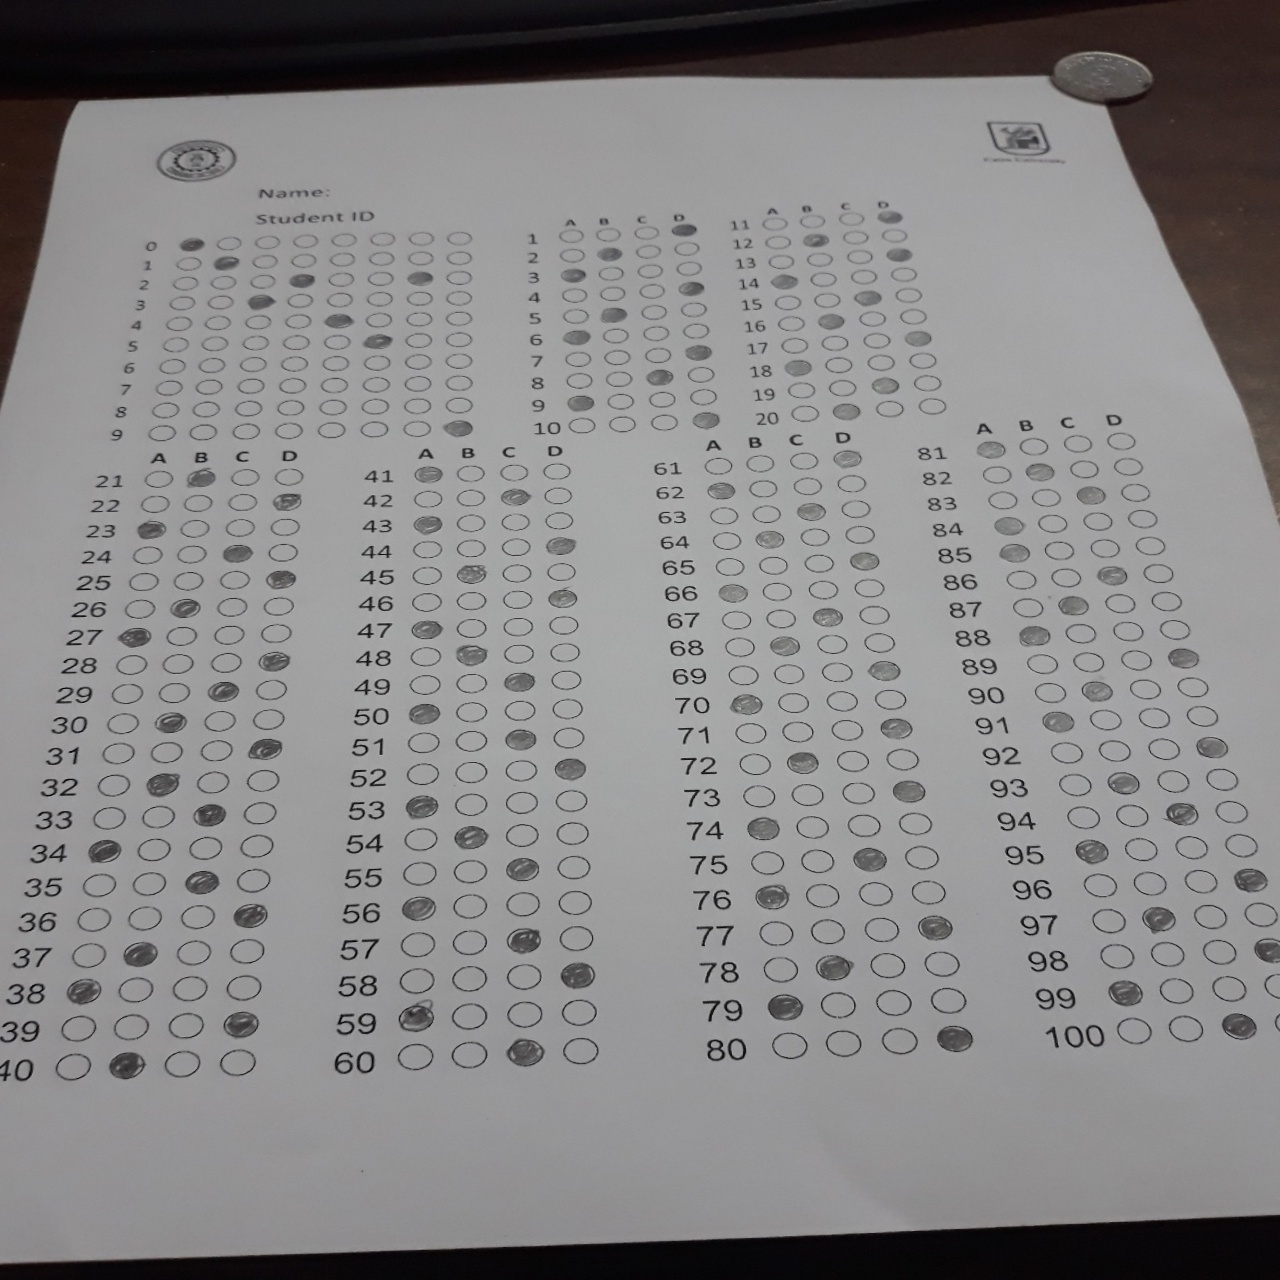not-c: (80, 870, 120, 900), (231, 864, 271, 894), (73, 904, 113, 934), (57, 1013, 97, 1043), (217, 1047, 257, 1077), (139, 803, 178, 833), (89, 799, 128, 830), (95, 769, 134, 799), (173, 939, 212, 969), (225, 973, 264, 1003), (53, 1051, 91, 1082), (163, 1048, 202, 1078), (447, 1039, 485, 1069), (449, 1001, 488, 1032), (449, 926, 488, 956), (449, 892, 488, 922), (499, 888, 538, 919), (449, 856, 488, 886), (127, 904, 166, 933), (166, 974, 206, 1003), (166, 1010, 206, 1040), (393, 1043, 433, 1073), (503, 998, 543, 1027), (502, 961, 542, 990), (400, 859, 440, 888), (451, 964, 489, 994), (115, 975, 154, 1005), (227, 937, 266, 966), (113, 1013, 151, 1042), (396, 965, 435, 994), (399, 930, 437, 959), (765, 1032, 806, 1058), (840, 811, 881, 838), (136, 837, 173, 866), (130, 871, 168, 900), (70, 941, 108, 971), (178, 903, 217, 931), (821, 1028, 860, 1055), (817, 992, 857, 1019), (754, 919, 794, 946), (922, 949, 962, 976), (799, 881, 839, 908), (897, 810, 937, 837), (828, 713, 867, 740), (760, 956, 798, 983), (805, 919, 844, 946), (911, 878, 949, 905), (855, 877, 893, 904), (838, 777, 877, 804), (830, 745, 869, 772), (884, 745, 922, 772), (734, 753, 772, 779), (731, 719, 770, 745), (872, 683, 911, 710), (813, 631, 852, 658), (207, 651, 247, 676), (100, 741, 139, 767), (243, 768, 282, 794), (867, 952, 907, 978), (899, 844, 939, 870), (740, 784, 779, 810), (402, 824, 438, 852), (501, 785, 537, 813), (501, 753, 537, 781), (454, 726, 491, 753), (558, 998, 595, 1024), (873, 989, 911, 1016), (798, 847, 836, 874), (250, 706, 288, 731), (147, 740, 185, 765), (185, 835, 224, 860), (881, 1028, 920, 1054), (864, 915, 903, 941), (792, 816, 831, 842), (776, 719, 815, 744), (819, 686, 858, 712), (406, 761, 441, 789), (236, 833, 275, 858), (501, 821, 537, 847), (452, 760, 489, 787), (403, 729, 440, 756), (254, 678, 292, 703), (200, 706, 238, 731), (560, 1037, 598, 1063), (928, 986, 966, 1012), (750, 850, 788, 876), (860, 629, 898, 655), (1116, 1016, 1153, 1042), (113, 652, 151, 676), (105, 682, 144, 707), (241, 803, 280, 828), (1095, 942, 1133, 967), (155, 681, 195, 704), (159, 653, 197, 678), (104, 712, 142, 736), (195, 769, 232, 794), (554, 855, 592, 879), (556, 890, 593, 914), (558, 926, 595, 951), (790, 782, 828, 806), (760, 576, 794, 602), (197, 737, 236, 761), (451, 791, 486, 817), (552, 821, 588, 845), (1095, 738, 1131, 763), (1242, 901, 1279, 926), (1199, 939, 1235, 964), (1166, 1016, 1203, 1041), (1149, 941, 1186, 965), (1157, 978, 1194, 1001), (1210, 976, 1247, 1000), (855, 601, 888, 627), (805, 577, 839, 602), (1050, 740, 1085, 764), (1029, 680, 1065, 703), (1087, 708, 1123, 731), (1135, 704, 1171, 728), (1145, 736, 1182, 760), (1201, 768, 1238, 791), (1114, 803, 1150, 826), (1212, 799, 1248, 823), (1171, 836, 1207, 859), (1184, 869, 1220, 892), (1080, 874, 1116, 898), (1089, 908, 1125, 932), (1191, 905, 1227, 928), (726, 663, 758, 689), (851, 574, 884, 600), (724, 635, 758, 660), (501, 697, 536, 721), (451, 537, 486, 560), (409, 486, 444, 510), (451, 484, 486, 508), (540, 483, 576, 506), (546, 613, 581, 636), (546, 667, 581, 690), (550, 726, 585, 749), (551, 789, 586, 812), (1119, 647, 1155, 670), (1128, 676, 1163, 700), (1175, 676, 1210, 700), (1058, 772, 1094, 796), (1153, 769, 1189, 792), (1064, 804, 1099, 828), (1122, 838, 1157, 862), (1223, 833, 1258, 857), (1132, 871, 1167, 894), (719, 606, 750, 632), (1062, 622, 1098, 645), (1182, 704, 1218, 727), (821, 660, 853, 685), (772, 660, 805, 685), (764, 605, 797, 629), (257, 620, 291, 644), (409, 537, 443, 560), (454, 511, 488, 535), (544, 640, 578, 663), (502, 641, 537, 663), (499, 587, 535, 610), (406, 566, 441, 588), (456, 459, 491, 482), (540, 458, 576, 481), (542, 508, 577, 530), (550, 696, 585, 719), (1070, 651, 1105, 673), (776, 690, 809, 714), (264, 542, 298, 564), (211, 622, 245, 645), (165, 626, 199, 648), (452, 670, 486, 693), (411, 644, 445, 666), (411, 592, 445, 614), (407, 673, 442, 694), (499, 615, 535, 636), (451, 588, 486, 610), (498, 535, 533, 556), (544, 561, 579, 583), (499, 561, 535, 583), (223, 517, 256, 539), (497, 459, 530, 482), (1005, 567, 1037, 590), (1008, 595, 1041, 618), (268, 516, 302, 537), (215, 595, 248, 617), (454, 701, 488, 722), (452, 617, 486, 638), (169, 568, 200, 591), (1067, 458, 1098, 481), (1047, 566, 1078, 588), (1104, 591, 1136, 613), (498, 510, 533, 530), (176, 544, 209, 565), (130, 544, 163, 565), (127, 571, 159, 592), (216, 571, 248, 592), (801, 554, 833, 576), (1060, 433, 1092, 454), (1087, 536, 1119, 557), (823, 353, 855, 374), (261, 595, 293, 617), (122, 599, 154, 620), (756, 554, 788, 576), (745, 478, 777, 499), (702, 454, 734, 475), (707, 506, 738, 527), (1107, 430, 1138, 451), (1142, 561, 1173, 583), (1110, 620, 1142, 641), (799, 529, 832, 549), (835, 472, 867, 492), (809, 268, 839, 290), (743, 451, 774, 472), (790, 450, 821, 471), (985, 490, 1015, 511), (821, 332, 852, 352), (284, 311, 315, 331), (314, 418, 346, 438), (229, 420, 260, 440), (842, 524, 873, 544), (837, 499, 869, 519), (1121, 481, 1152, 501), (1128, 509, 1159, 529), (1082, 510, 1114, 530), (1135, 535, 1166, 554), (1150, 590, 1182, 610), (1026, 653, 1057, 673), (175, 519, 210, 537), (794, 477, 823, 498), (982, 464, 1012, 485), (365, 227, 397, 246), (316, 353, 349, 372), (830, 377, 860, 397), (642, 324, 673, 343), (647, 411, 678, 431), (365, 248, 395, 268), (402, 420, 433, 440), (714, 557, 744, 577), (749, 503, 779, 523), (712, 529, 742, 549), (1017, 436, 1048, 456), (1112, 456, 1143, 476), (1035, 515, 1065, 535), (1159, 620, 1190, 640), (762, 231, 794, 250), (772, 292, 804, 311), (636, 282, 668, 301), (642, 346, 674, 365), (442, 395, 474, 414), (442, 308, 474, 327), (326, 230, 358, 248), (325, 250, 356, 268), (401, 396, 433, 415), (234, 400, 266, 418), (251, 232, 282, 251), (189, 421, 220, 440), (147, 423, 178, 442), (227, 467, 259, 485), (866, 352, 896, 372), (813, 290, 843, 309), (363, 309, 393, 329), (1032, 488, 1061, 508), (1044, 540, 1074, 560), (636, 304, 669, 321), (318, 376, 350, 394), (359, 418, 392, 436), (241, 335, 274, 353), (236, 355, 268, 373), (912, 373, 942, 392), (917, 396, 947, 415), (787, 380, 817, 399), (679, 320, 709, 339), (674, 259, 704, 278), (633, 243, 663, 261), (635, 263, 666, 281), (595, 282, 626, 301), (443, 350, 474, 369), (406, 229, 436, 247), (406, 248, 436, 267), (362, 291, 393, 309), (290, 230, 320, 248), (320, 332, 350, 350), (404, 352, 435, 370), (400, 373, 430, 392), (272, 422, 302, 441), (248, 271, 279, 290), (191, 400, 222, 418), (151, 401, 182, 420), (164, 293, 195, 312), (775, 315, 806, 333), (687, 388, 719, 406), (679, 300, 710, 318), (631, 223, 662, 240), (591, 224, 622, 241), (561, 349, 593, 367), (326, 290, 358, 307), (366, 268, 397, 286), (402, 309, 434, 327), (285, 251, 316, 268), (316, 399, 348, 416), (243, 312, 274, 329), (196, 355, 227, 373), (163, 313, 195, 331), (271, 468, 302, 485), (141, 469, 172, 486), (874, 400, 904, 418), (608, 414, 638, 433), (566, 415, 595, 434), (444, 246, 474, 265), (275, 399, 305, 417), (764, 252, 795, 270), (778, 338, 809, 355), (788, 404, 818, 422), (685, 365, 715, 382), (647, 390, 678, 408), (602, 392, 633, 409), (600, 347, 631, 365), (600, 326, 631, 343), (554, 226, 585, 244), (559, 286, 590, 304), (560, 308, 591, 326), (442, 374, 472, 392), (443, 227, 474, 245), (406, 288, 436, 306), (325, 270, 355, 287), (281, 333, 312, 350), (359, 352, 389, 369), (277, 354, 307, 372), (236, 376, 266, 394), (247, 251, 278, 268), (216, 233, 246, 251), (203, 315, 233, 333), (193, 377, 224, 395), (154, 380, 184, 397), (157, 355, 188, 373), (184, 493, 215, 511), (795, 212, 826, 229), (557, 247, 588, 264), (441, 268, 472, 285), (277, 376, 308, 393), (200, 334, 232, 350), (908, 350, 938, 368), (444, 288, 474, 306), (406, 331, 435, 348), (362, 376, 392, 394), (139, 493, 169, 511), (758, 213, 789, 230), (602, 370, 633, 387), (563, 372, 593, 388), (445, 331, 476, 347), (204, 295, 234, 312), (157, 335, 188, 352), (170, 274, 200, 291), (226, 493, 257, 510), (597, 265, 626, 281), (356, 399, 386, 415), (206, 274, 236, 291), (1261, 973, 1280, 998), (890, 265, 915, 282), (896, 285, 921, 302), (859, 309, 885, 327), (843, 229, 869, 246), (285, 293, 312, 309), (803, 252, 833, 266), (176, 256, 204, 271), (864, 332, 890, 348), (670, 241, 700, 256), (850, 267, 874, 284), (847, 248, 872, 265), (839, 210, 864, 226), (881, 227, 907, 243), (900, 308, 926, 324), (1272, 1010, 1280, 1035)
taken-c: (501, 855, 543, 885), (143, 769, 185, 799), (763, 990, 804, 1021), (556, 960, 597, 990), (503, 924, 544, 954), (450, 823, 491, 853), (118, 937, 159, 967), (933, 1022, 975, 1051), (394, 1002, 436, 1032), (62, 976, 104, 1006), (188, 799, 230, 829), (86, 835, 125, 865), (397, 893, 438, 922), (181, 866, 222, 896), (218, 1010, 260, 1039), (503, 1037, 544, 1065), (105, 1051, 147, 1080), (229, 903, 270, 930), (1107, 978, 1145, 1006), (400, 792, 440, 819), (499, 668, 538, 695), (551, 755, 591, 781), (246, 736, 284, 763), (1160, 645, 1201, 669), (501, 726, 539, 751), (406, 700, 444, 726), (165, 595, 205, 620), (1220, 1012, 1257, 1039), (1039, 708, 1076, 734), (1073, 838, 1110, 864), (1231, 866, 1268, 892), (915, 914, 953, 940), (1014, 624, 1053, 648), (1075, 678, 1114, 702), (450, 641, 489, 666), (204, 679, 243, 703), (260, 566, 299, 591), (1192, 733, 1228, 758), (1104, 771, 1141, 797), (1162, 801, 1198, 826), (888, 778, 925, 804), (850, 845, 886, 871), (754, 884, 790, 910), (815, 954, 851, 980), (1051, 594, 1091, 618), (742, 816, 779, 840), (150, 710, 189, 734), (253, 648, 292, 672), (115, 622, 154, 646), (878, 715, 912, 741), (1139, 905, 1175, 930), (785, 750, 819, 775), (409, 463, 445, 485), (219, 544, 256, 566), (134, 518, 170, 540), (543, 587, 580, 608), (268, 491, 306, 512), (181, 467, 218, 488), (498, 486, 535, 508), (408, 513, 444, 535), (408, 619, 445, 639), (543, 535, 580, 554), (1094, 564, 1126, 586), (1252, 937, 1280, 962), (451, 563, 488, 583), (753, 527, 787, 549), (829, 448, 862, 469), (990, 515, 1024, 535), (704, 481, 738, 501), (1021, 461, 1053, 482), (847, 550, 879, 571), (812, 606, 844, 627), (768, 635, 799, 656), (1074, 484, 1107, 504), (321, 309, 354, 329), (974, 440, 1006, 459), (998, 543, 1029, 563), (831, 402, 863, 422), (782, 358, 813, 377), (796, 502, 828, 522), (716, 583, 748, 602), (867, 660, 899, 680), (730, 693, 762, 713), (644, 368, 676, 387), (441, 418, 474, 437), (360, 331, 393, 349), (869, 376, 899, 396), (598, 305, 629, 324), (560, 327, 592, 346), (690, 410, 721, 429), (682, 342, 713, 361), (851, 288, 883, 306), (565, 394, 597, 411), (815, 313, 845, 331), (676, 279, 706, 297), (287, 272, 316, 290), (884, 246, 914, 263), (177, 234, 205, 252), (901, 331, 931, 347), (406, 270, 435, 286), (212, 254, 241, 271), (595, 244, 622, 261), (768, 274, 798, 290), (559, 267, 587, 284), (246, 294, 275, 309), (670, 220, 697, 237), (801, 233, 828, 248), (876, 210, 903, 223)
